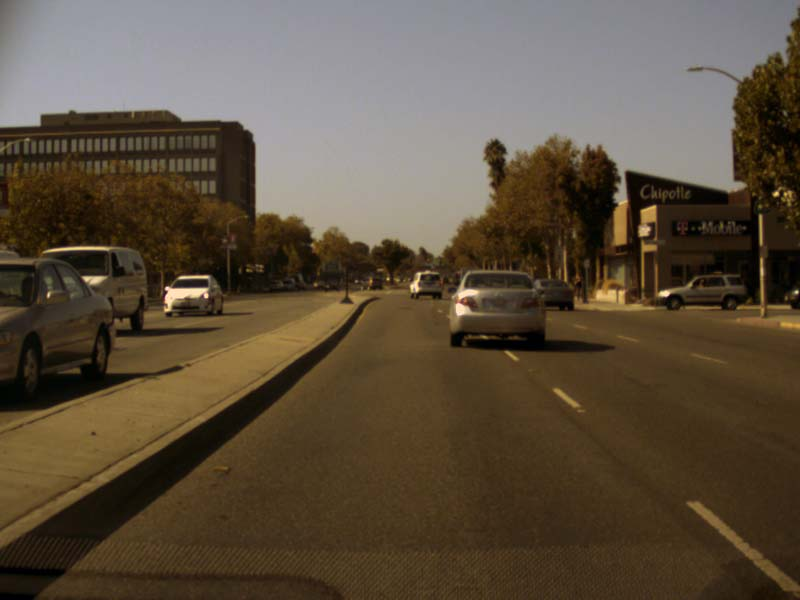Yellow: (426, 258, 430, 262)
